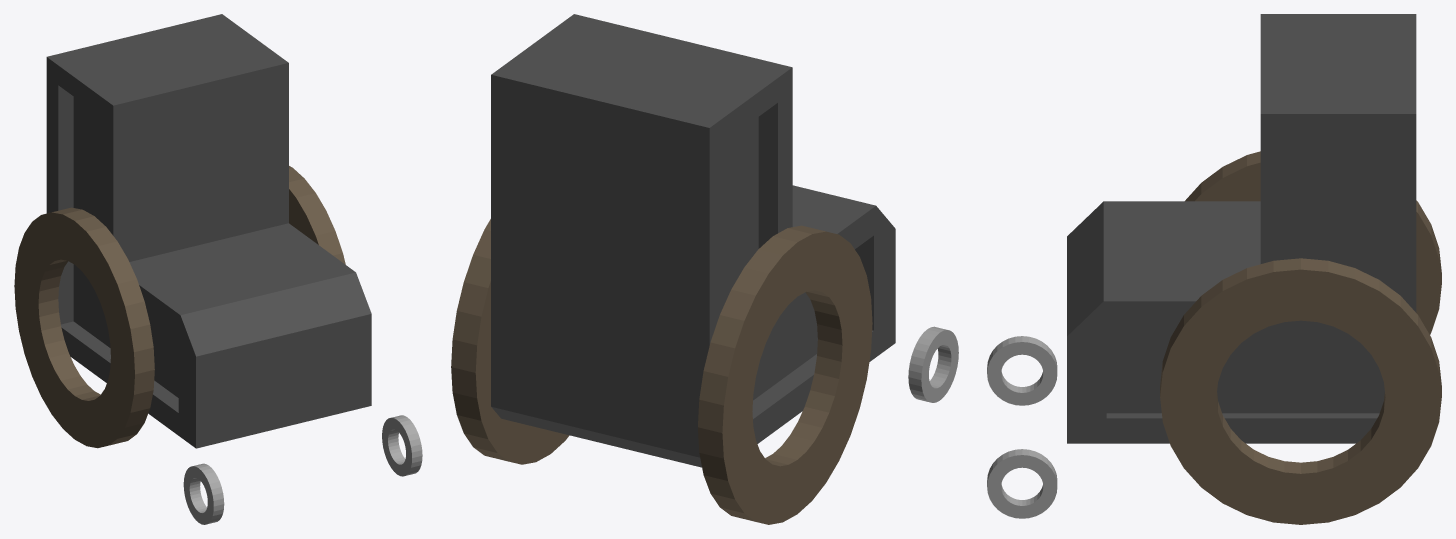
Rendered from wheelchairModel.fbx.
3 renders of one model, left to right at view 1: azimuth 30°, elevation 25°; view 2: azimuth 150°, elevation 25°; view 3: azimuth 270°, elevation 25°, orthographic. The views are drawn at different scales.
Visible parts, largest first — view 1: wheelchairModel, wheelbigFirst, wheelbigSecond, wheelsmallSecond, wheelsmallFirst; view 2: wheelchairModel, wheelbigFirst, wheelbigSecond, wheelsmallSecond; view 3: wheelchairModel, wheelbigSecond, wheelbigFirst, wheelsmallSecond, wheelsmallFirst.
Boxes of the visible parts, x1,y1,x2,y2 form: wheelchairModel: (46, 14, 371, 448); wheelbigFirst: (14, 207, 154, 448); wheelbigSecond: (289, 166, 345, 264); wheelsmallSecond: (183, 463, 224, 524); wheelsmallFirst: (382, 415, 422, 476); wheelchairModel: (491, 14, 895, 467); wheelbigFirst: (698, 225, 872, 524); wheelbigSecond: (451, 219, 569, 464); wheelsmallSecond: (908, 326, 958, 402); wheelchairModel: (1067, 14, 1416, 443); wheelbigSecond: (1160, 258, 1441, 524); wheelbigFirst: (1185, 151, 1441, 334); wheelsmallSecond: (987, 336, 1057, 405); wheelsmallFirst: (987, 449, 1057, 518).
Size of the model in its own units: 62.69 by 93.79 by 96.93.
